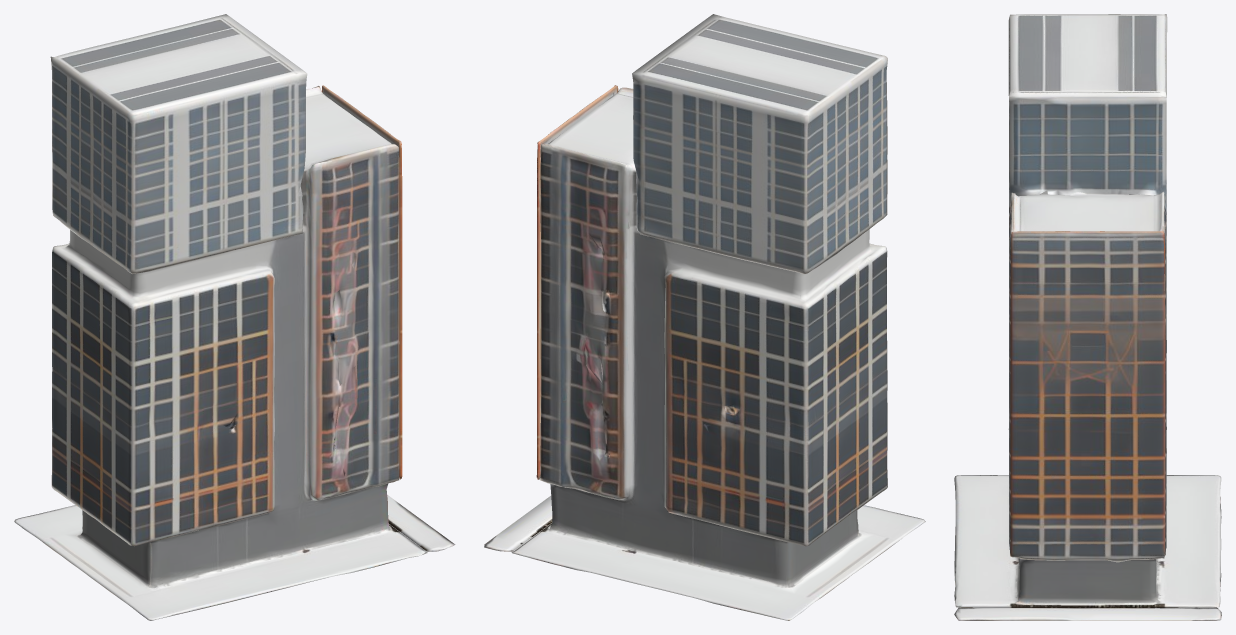
The model's file is tower.glb.
3 views of the same model, side by side, from view 1: azimuth 30°, elevation 25°; view 2: azimuth 150°, elevation 25°; view 3: azimuth 270°, elevation 25° (orthographic). The views are drawn at different scales.
Parts seen in each view (by area): view 1: model; view 2: model; view 3: model.
Boxes of the visible parts, x1=… form: model: x1=14, y1=14, x2=455, y2=620; model: x1=484, y1=14, x2=925, y2=620; model: x1=954, y1=14, x2=1221, y2=620.
Bounding box in the file's own units: 1.27 × 1.9 × 0.9839.
Materials: 1 (1 with a texture image).
